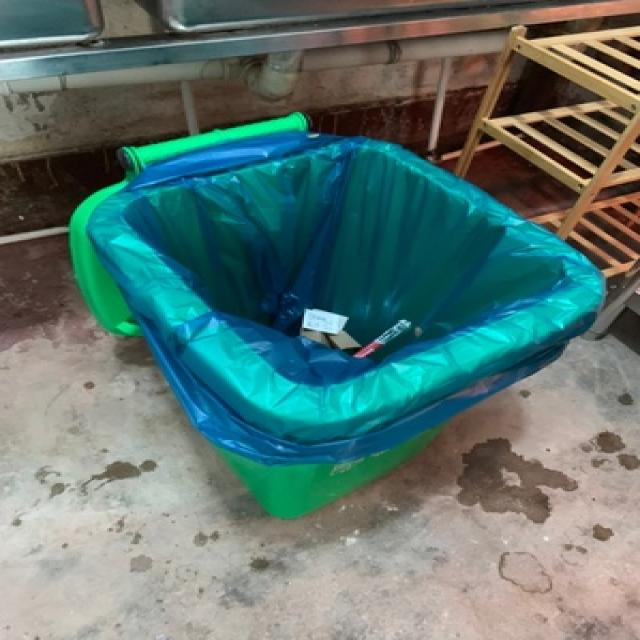ash bin: (67, 112, 612, 517)
